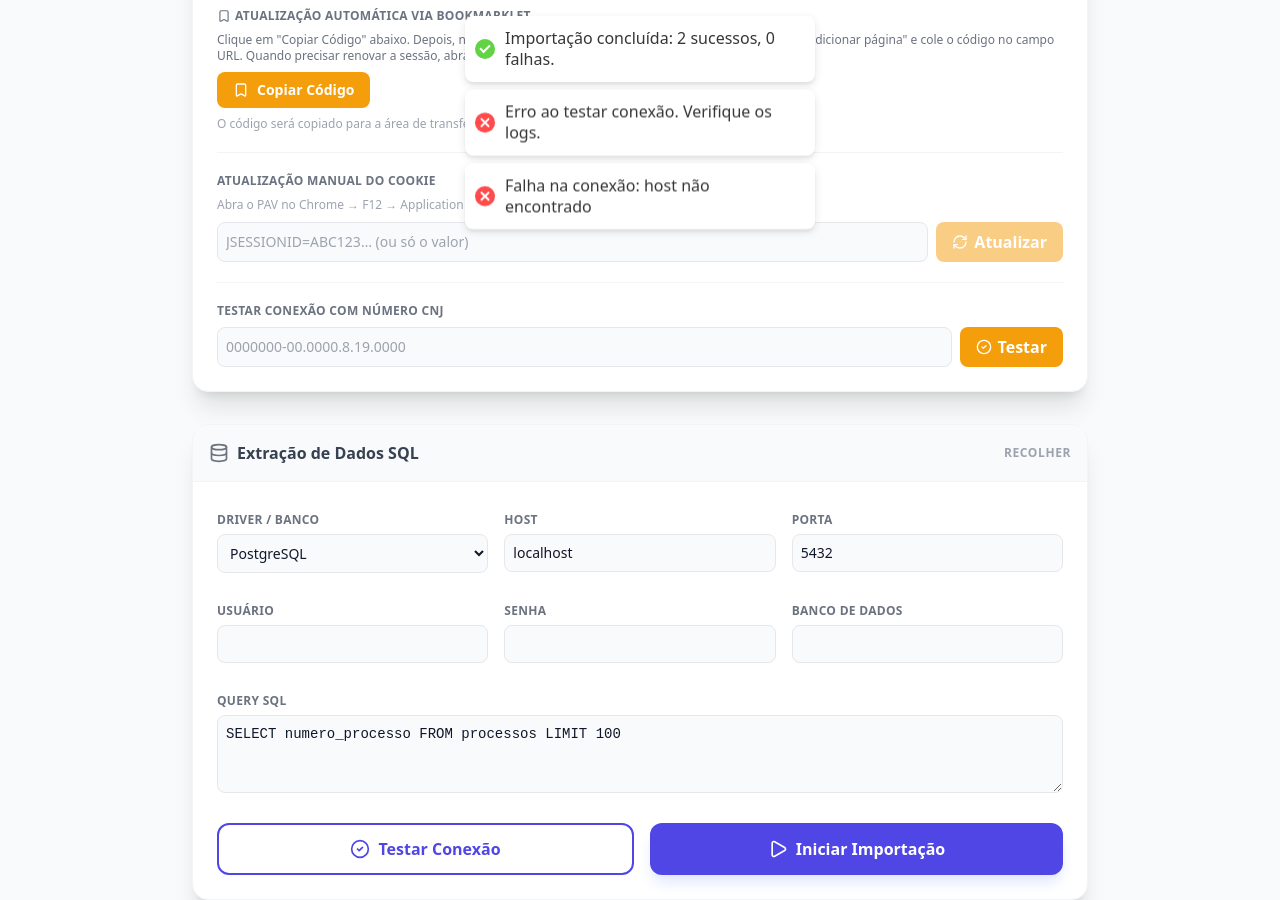
Test: Settings Component › Import Functionality › TC-21: shows success toast with counts
(page scrolled)
Click the button "Iniciar Importação" at (856, 849), box [650,823,1063,875]
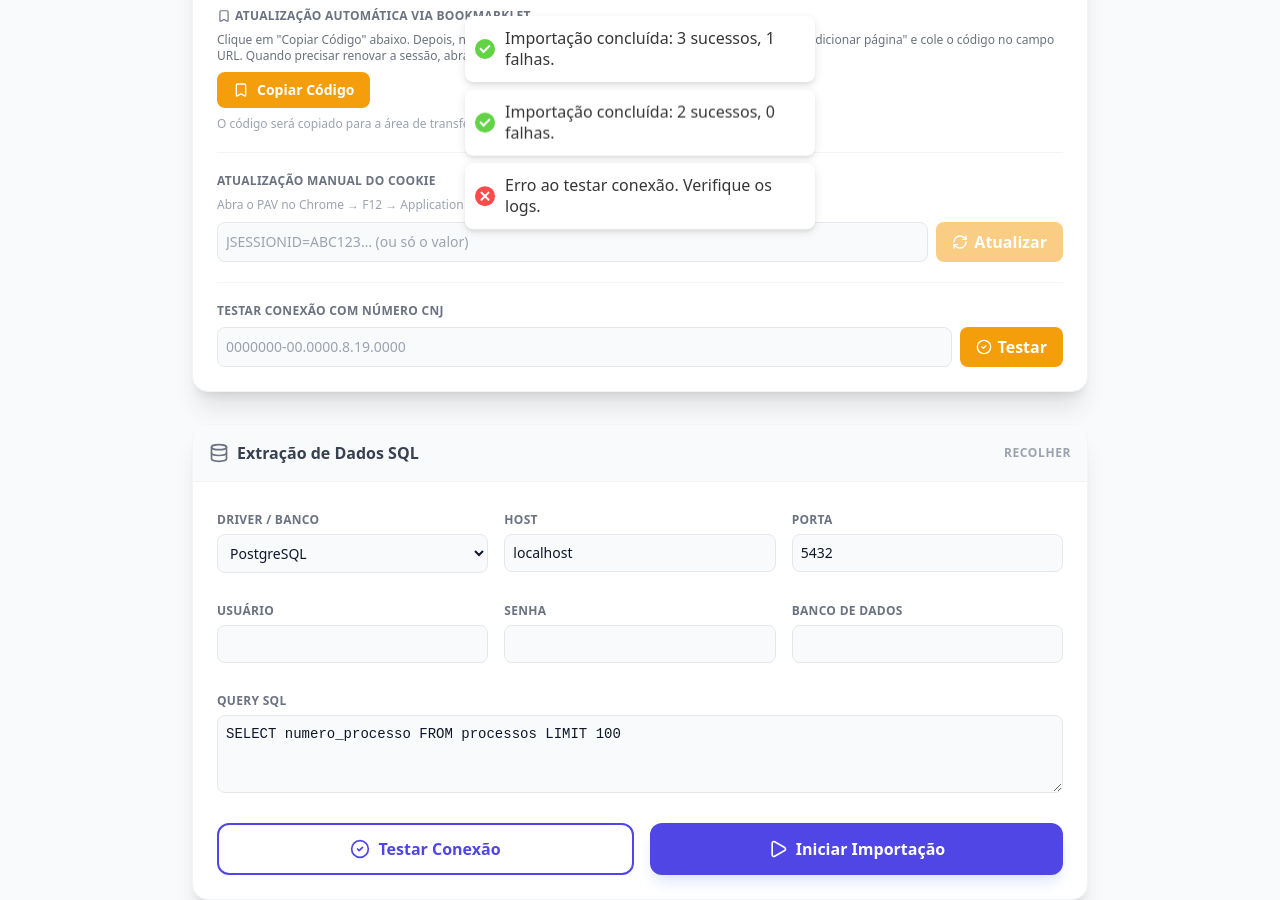
Result: the text "Importação concluída: 3 sucessos, 1 falhas." is shown at [505,28,795,70]
